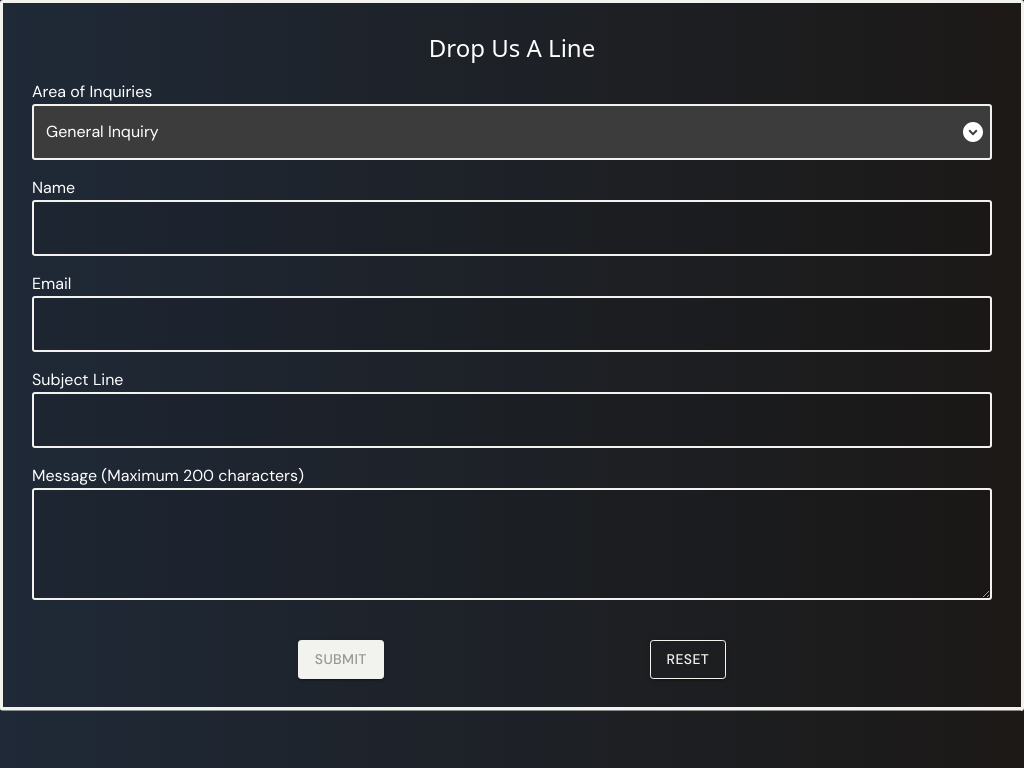
Test case: The Inquiry Form show show a form that can be submitted to reach us › Error message displayed when the Email Address is not in email address format and the message is too long
Step 1. Type "hello@world" into the field labelled "Email" → (512, 324), box left=32, top=296, right=992, bottom=352
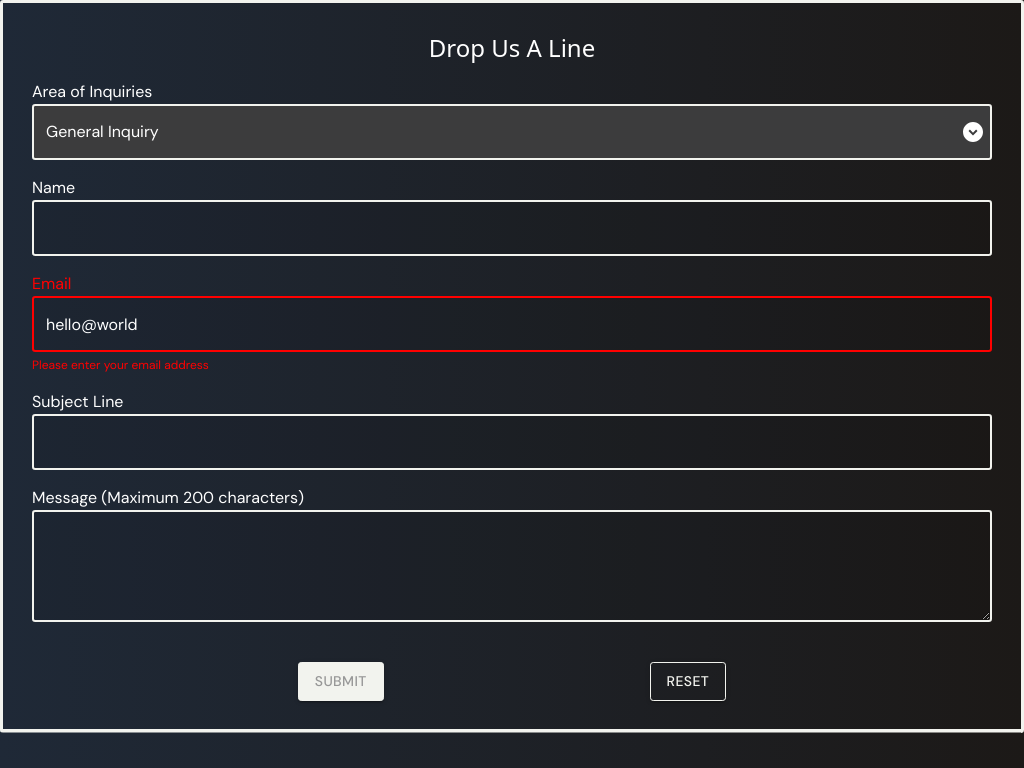
Step 2. Type "At vero eos et accusamus et iusto odio dignissimos ducimus qui blanditiis praesentium voluptatum deleniti atque corrupti quos dolores et quas molestias excepturi sint occaecati cupiditate non providen" into the text box labelled "Message (Maximum 200 characters)" → (512, 566), box left=32, top=510, right=992, bottom=622
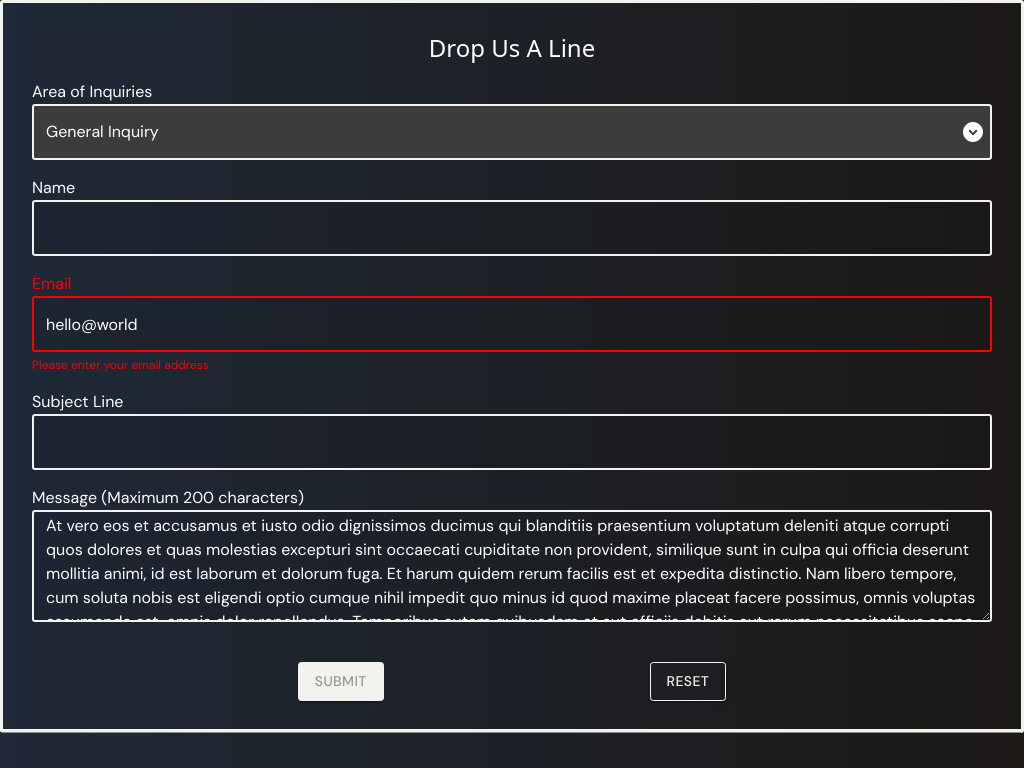
Step 3. Leave the text box labelled "Message (Maximum 200 characters)", box left=32, top=510, right=992, bottom=622
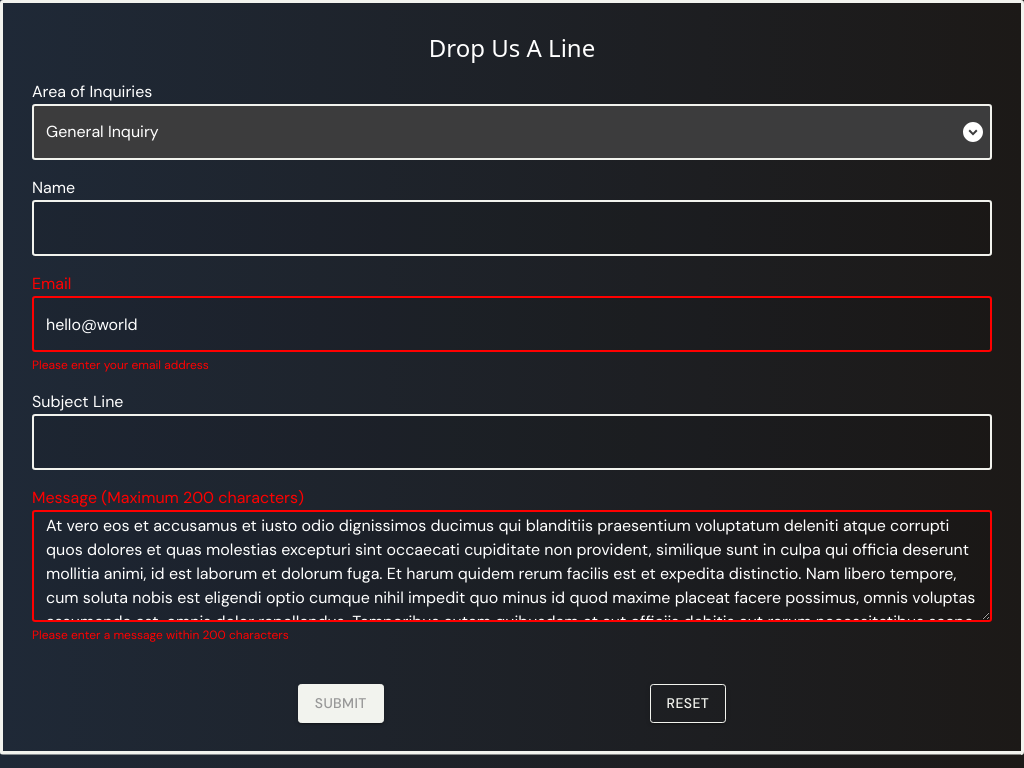
Check: the text "Please enter your email address" is shown, box left=32, top=357, right=209, bottom=373
Check: the text "Please enter a message within 200 characters" is shown, box left=32, top=627, right=289, bottom=643
